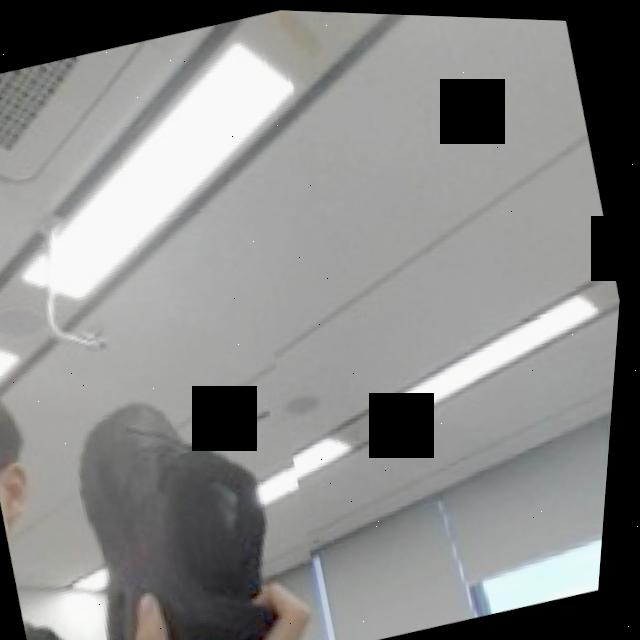shoe: (22, 310, 360, 640)
